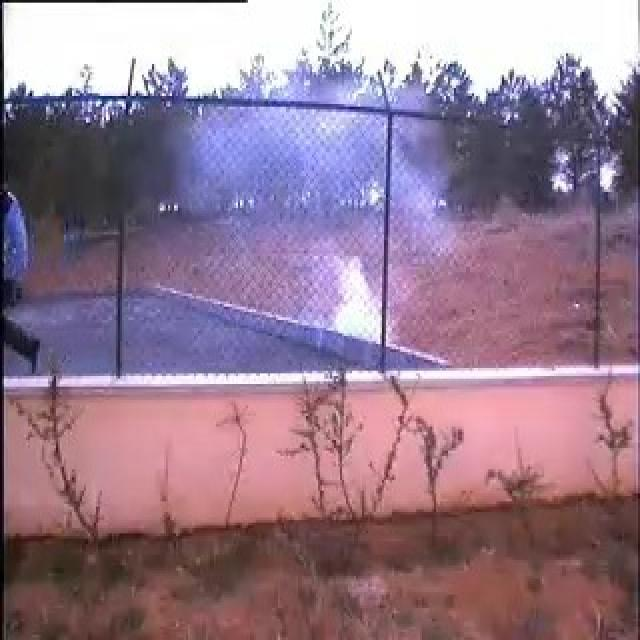smoke: (190, 90, 418, 350)
